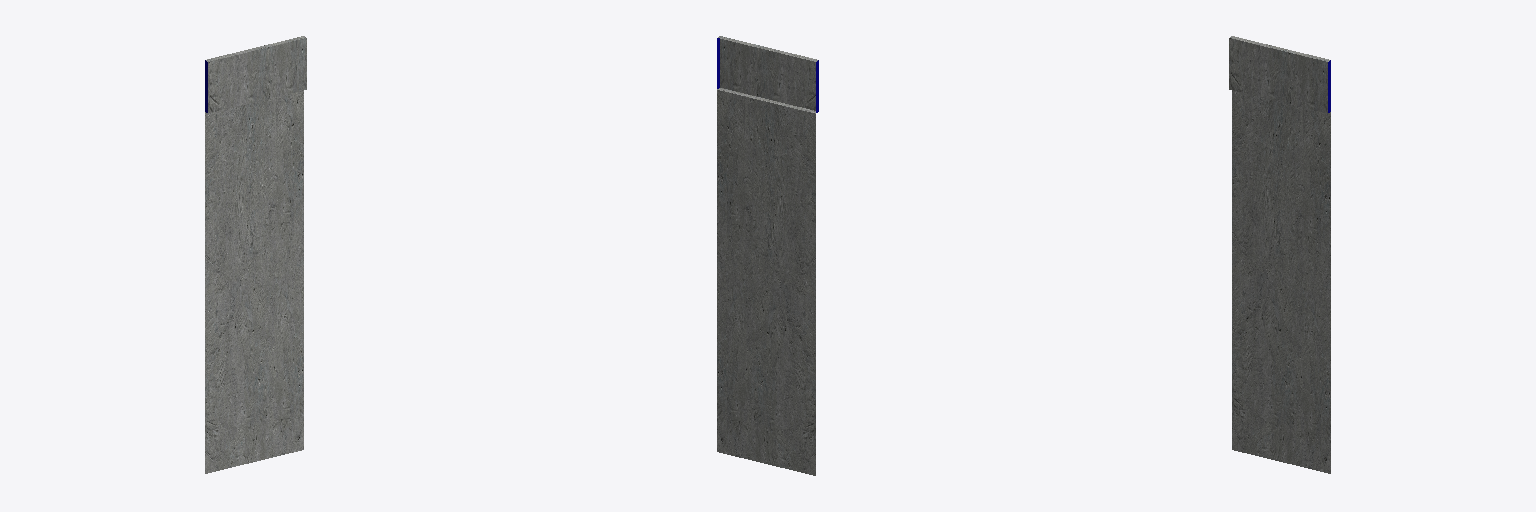
The picture shows the model from 3 angles: view 1: azimuth 30°, elevation 25°; view 2: azimuth 150°, elevation 25°; view 3: azimuth 330°, elevation 25°; orthographic projection.
Parts seen in each view (by area): view 1: Plane; view 2: Plane; view 3: Plane.
Part boxes in pixels (bbox=[...]): Plane: bbox=[205, 36, 306, 473]; Plane: bbox=[717, 36, 818, 475]; Plane: bbox=[1229, 36, 1330, 473].
Size of the model in its own units: 2 by 8 by 0.1.
2 materials, 1 textured.